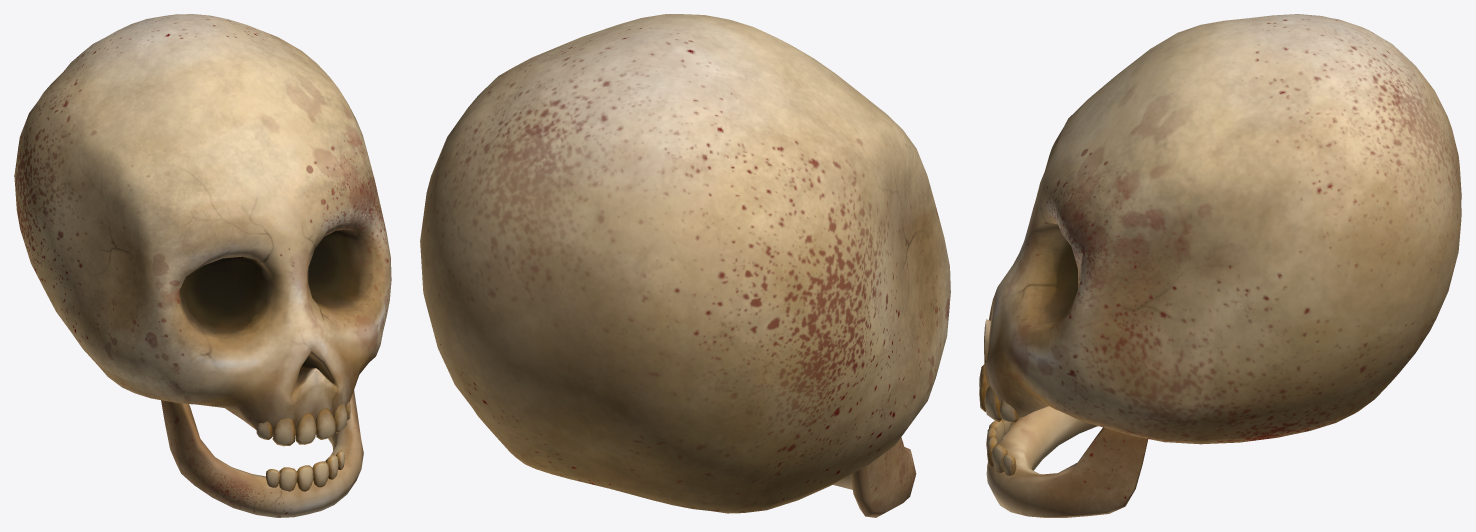
File: SM_Environment_Skull.fbx
The picture shows the model from 3 angles, left to right: view 1: azimuth 30°, elevation 25°; view 2: azimuth 150°, elevation 25°; view 3: azimuth 270°, elevation 25°; orthographic projection. The views are drawn at different scales.
Visible parts, largest first — view 1: Skull; view 2: Skull; view 3: Skull.
Part boxes in pixels (x1,y1,x2,y2): Skull: (14,14,391,517); Skull: (420,14,950,517); Skull: (979,14,1461,517).
Bounding box in the file's own units: 0.8427 × 1.07 × 1.
